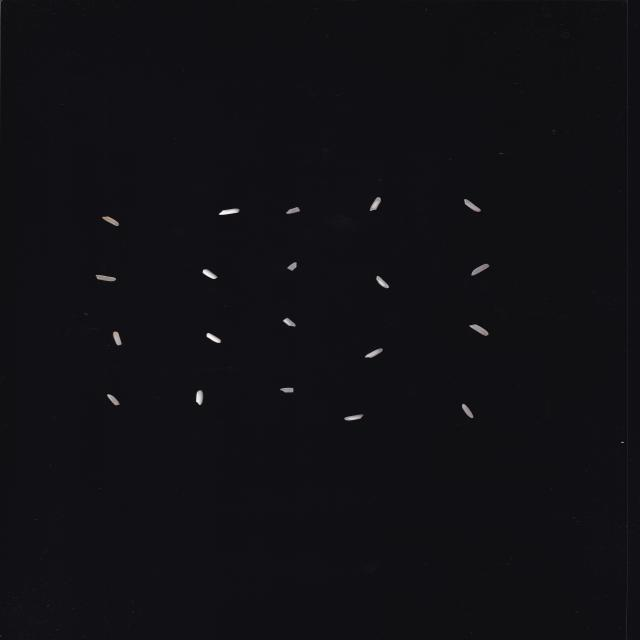Chalky: (364, 348, 382, 358), (370, 197, 381, 211), (377, 276, 389, 288), (344, 414, 364, 421)
Not: (469, 324, 489, 337), (464, 199, 481, 213), (471, 264, 490, 276), (102, 216, 119, 226), (462, 404, 474, 418), (107, 394, 120, 406), (219, 208, 239, 215), (203, 269, 217, 279), (207, 333, 221, 343), (112, 332, 121, 346), (96, 275, 116, 281), (196, 390, 204, 405), (286, 207, 301, 214), (283, 318, 296, 326), (287, 262, 297, 271), (280, 388, 294, 392)
